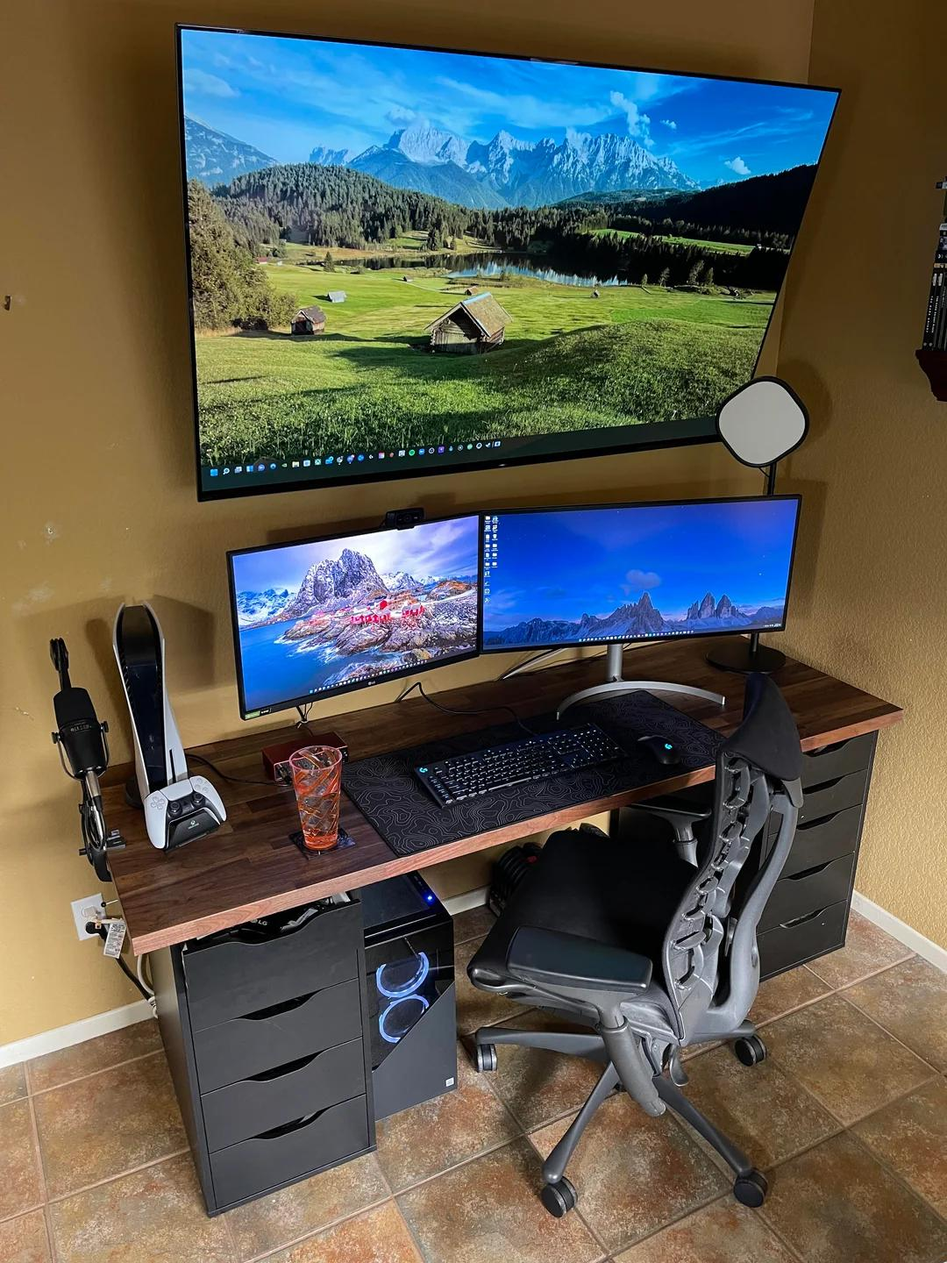PS4: (96, 594, 198, 826)
joy_game: (130, 766, 245, 853)
keyboard: (404, 707, 639, 810)
light: (707, 369, 825, 476)
mic: (32, 671, 126, 797)
monitor: (163, 8, 849, 513), (476, 483, 801, 659), (219, 515, 496, 712)
mouse: (628, 726, 695, 776)
pc: (306, 849, 474, 1125)
